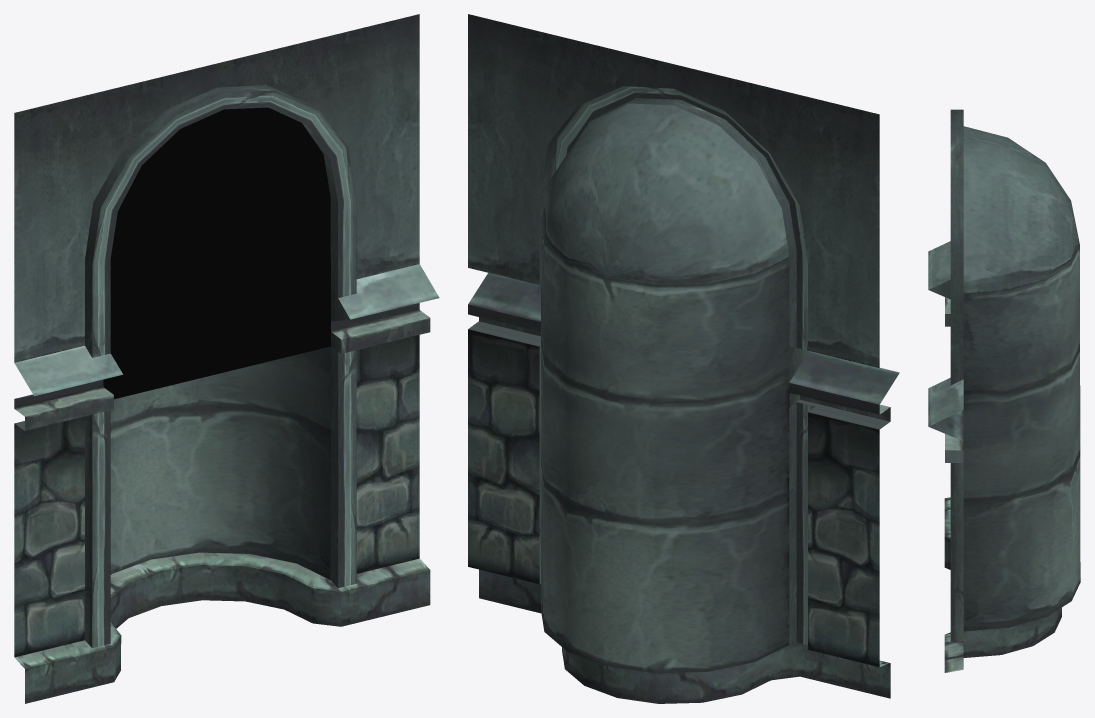
Rendered from crypt_wall_straight_09.fbx.
The picture shows the model from 3 angles, left to right: view 1: azimuth 30°, elevation 25°; view 2: azimuth 150°, elevation 25°; view 3: azimuth 270°, elevation 25°; orthographic projection. The views are drawn at different scales.
Visible parts, largest first — view 1: crypt_wall_straight_09-0; view 2: crypt_wall_straight_09-0; view 3: crypt_wall_straight_09-0.
Boxes of the visible parts, x1,y1,x2,y2 form: crypt_wall_straight_09-0: (14, 14, 439, 703); crypt_wall_straight_09-0: (468, 14, 899, 703); crypt_wall_straight_09-0: (928, 109, 1080, 672).
Bounding box in the file's own units: 4 × 5.5 × 1.47.
